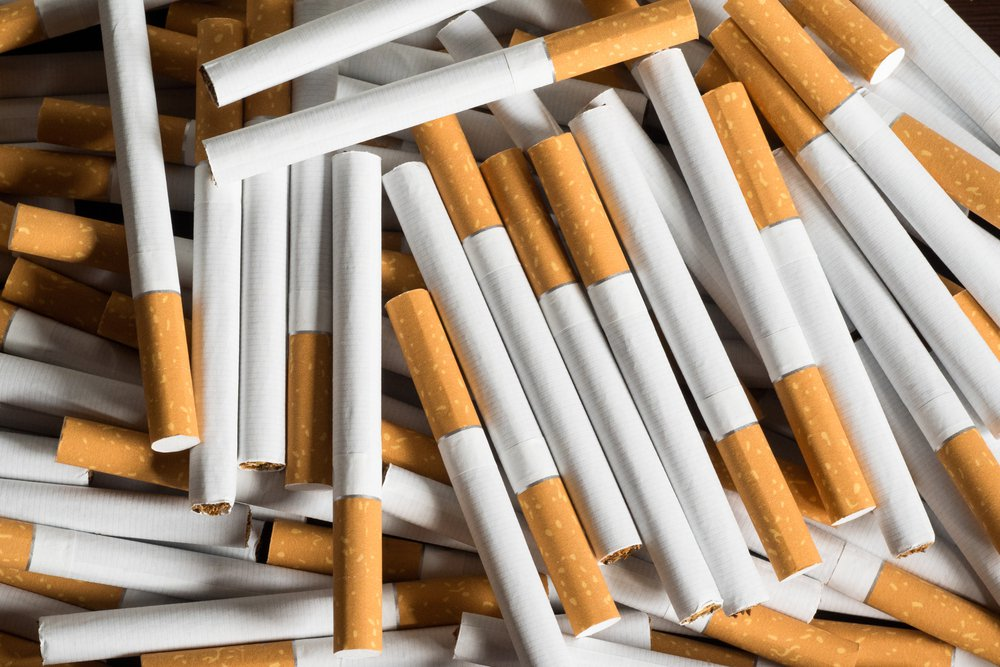cigarette: (89, 8, 198, 457)
